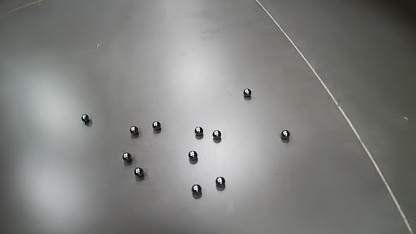ironball: (191, 184, 201, 194), (134, 167, 144, 177), (122, 152, 132, 162), (215, 176, 225, 186), (194, 126, 203, 136), (188, 150, 197, 160), (130, 125, 139, 135), (281, 130, 290, 140), (212, 130, 221, 139), (152, 121, 160, 130), (243, 88, 251, 97), (81, 114, 89, 122)
